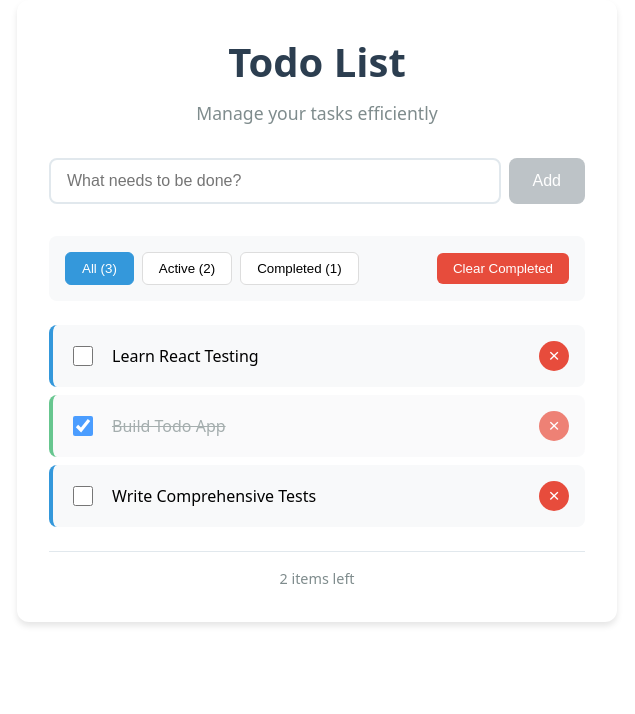
TodoList Component › maintains correct todo counts
This screenshot has width=635, height=714.
Check: the text with test id "todo-count" reads "2 items left", box left=280, top=569, right=355, bottom=588
Check: the button with test id "filter-all" reads "All (3)", box left=65, top=252, right=134, bottom=285
Type "Fourth Todo" into the field with test id "todo-input" at (275, 181), box left=49, top=158, right=500, bottom=204
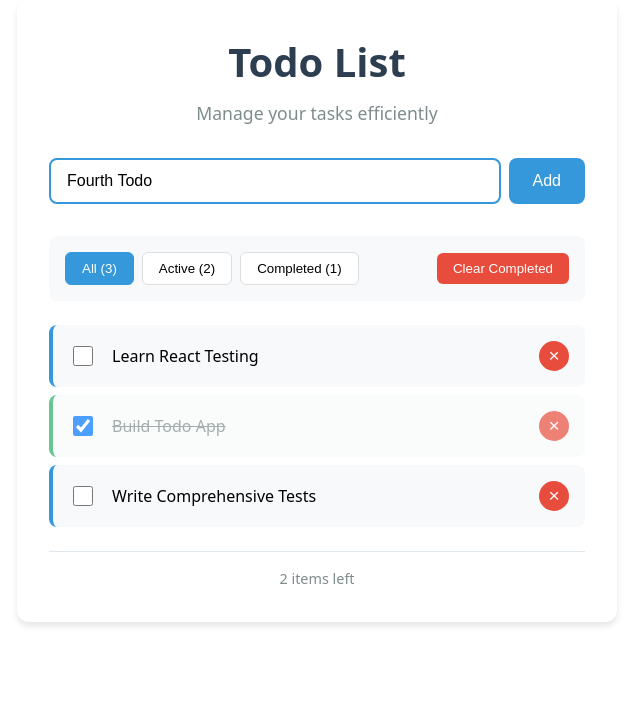
Click the button with test id "add-button" at (547, 181), box left=508, top=158, right=585, bottom=204
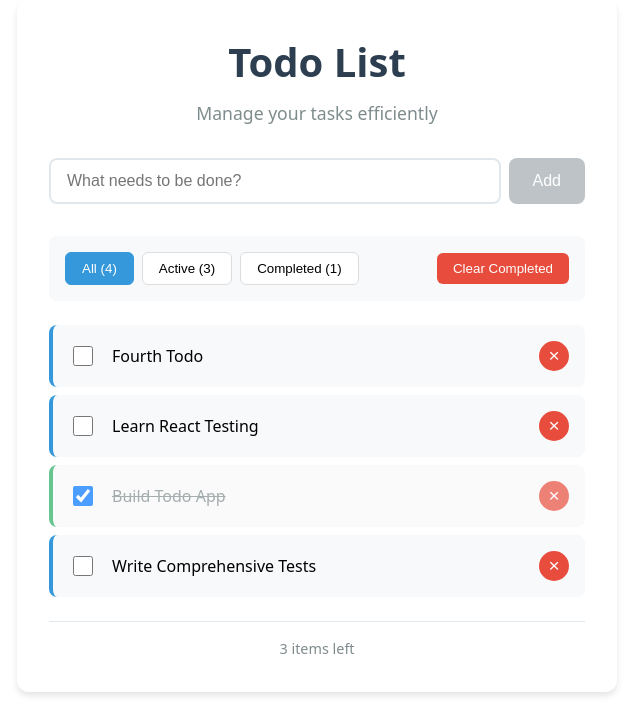
Check: the text with test id "todo-count" reads "3 items left", box left=280, top=639, right=355, bottom=658
Check: the button with test id "filter-all" reads "All (4)", box left=65, top=252, right=134, bottom=285
Check: the button with test id "filter-active" reads "Active (3)", box left=142, top=252, right=232, bottom=285
Click the text "Fourth Todo" at (158, 356), box left=112, top=345, right=203, bottom=367
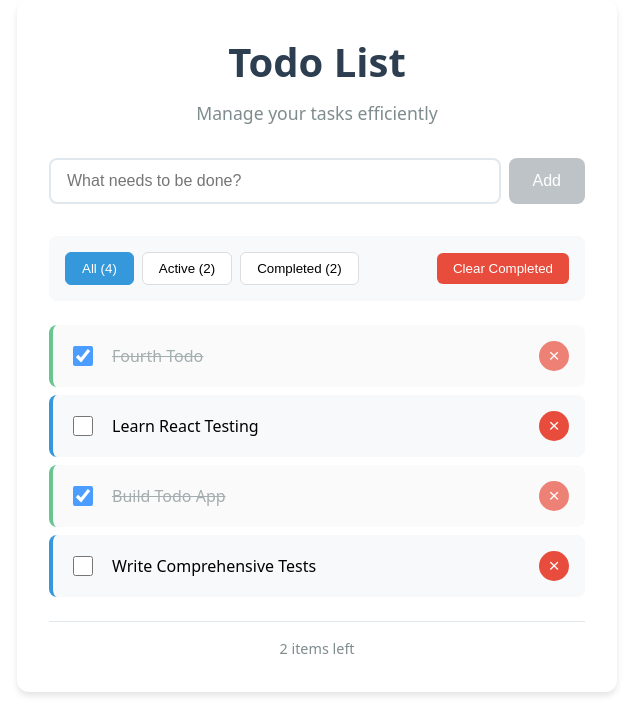
Check: the text with test id "todo-count" reads "2 items left", box left=280, top=639, right=355, bottom=658
Check: the button with test id "filter-completed" reads "Completed (2)", box left=240, top=252, right=359, bottom=285
